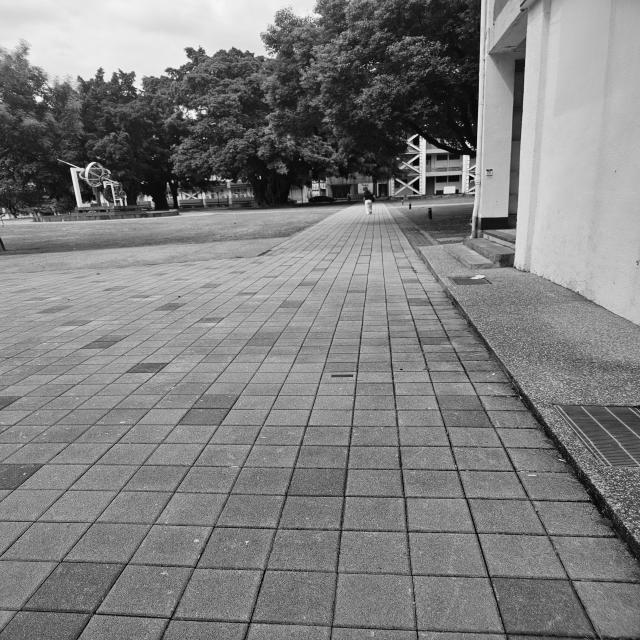Road-Object: (0, 205, 638, 640)
floor: (419, 229, 640, 555)
